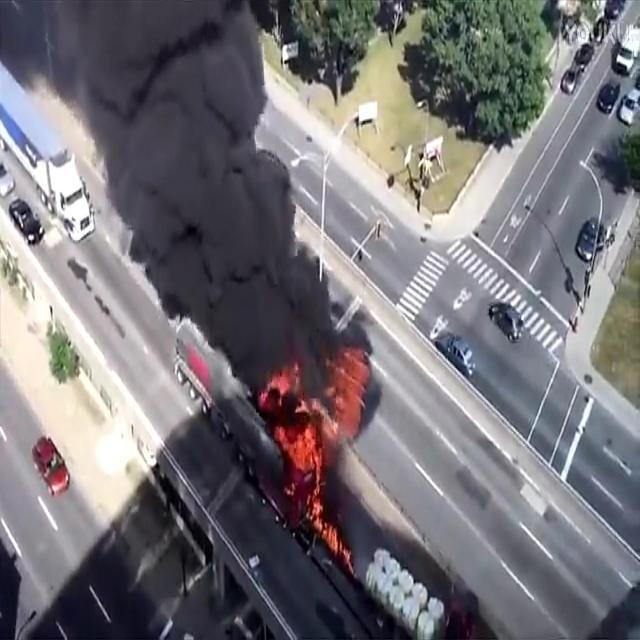Fire: (250, 364, 356, 584)
Smoke: (80, 0, 333, 364)
